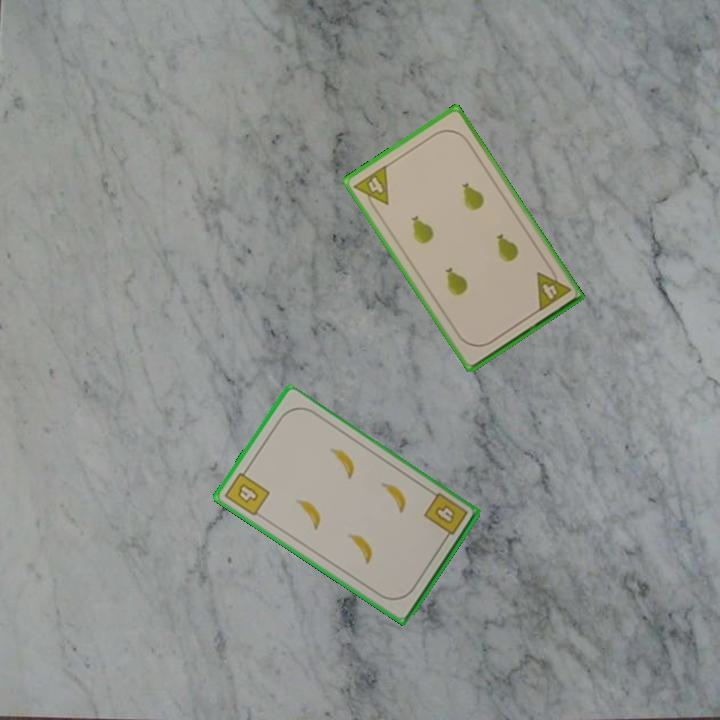4b: (221, 464, 272, 519), (420, 489, 470, 544)
4p: (350, 161, 392, 215), (532, 262, 574, 314)
